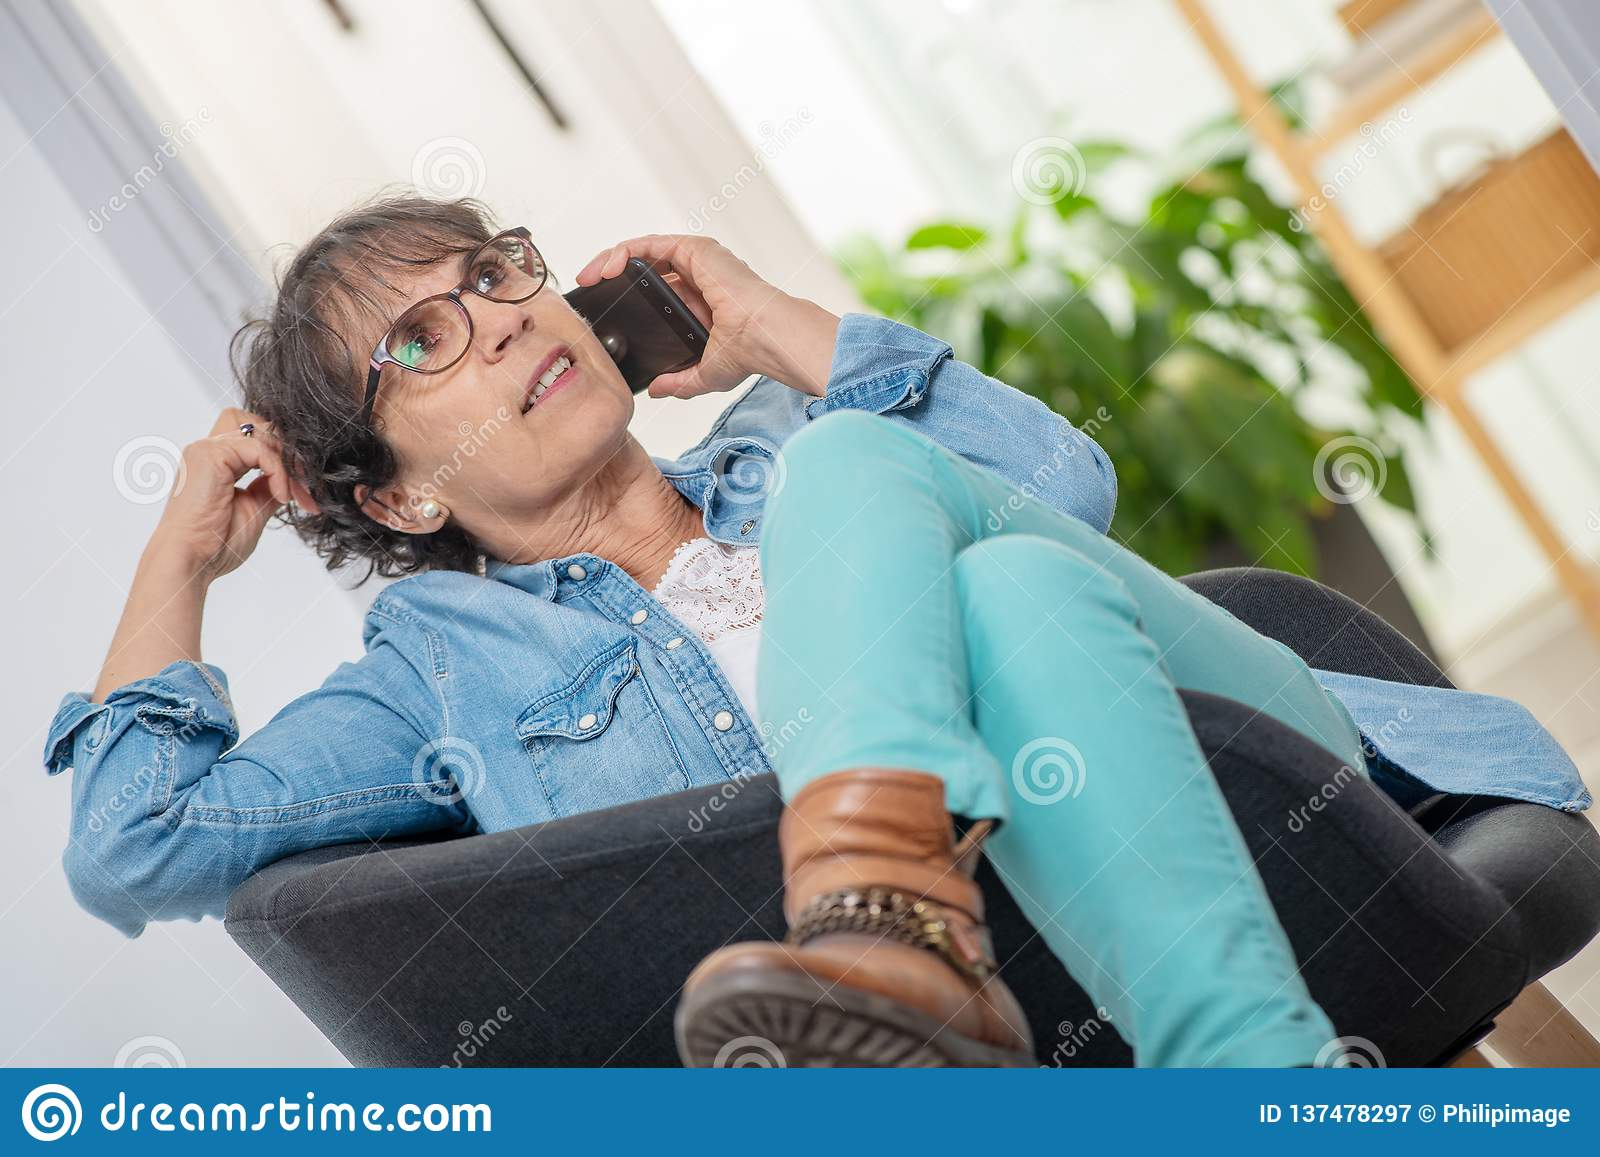phone: (564, 261, 718, 391)
talk: (370, 231, 769, 492)
